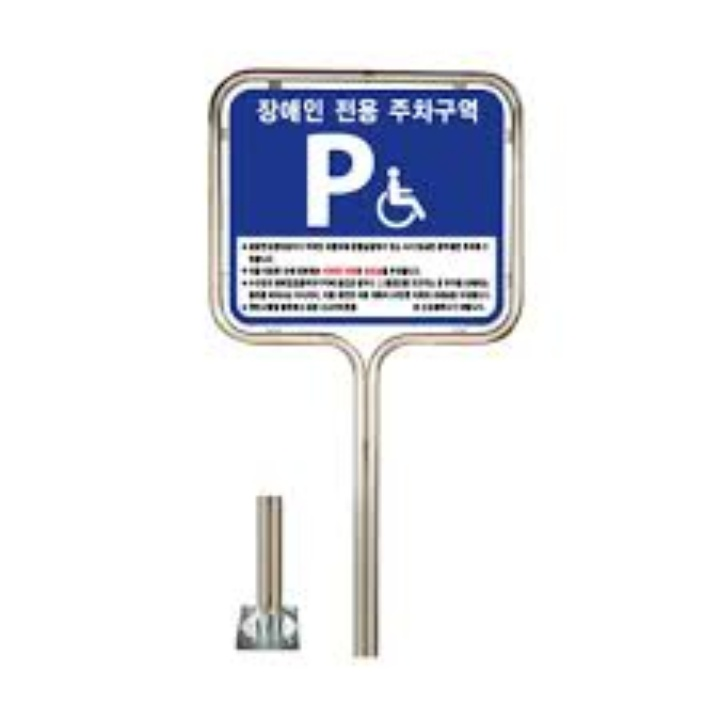parking: (302, 125, 379, 227)
